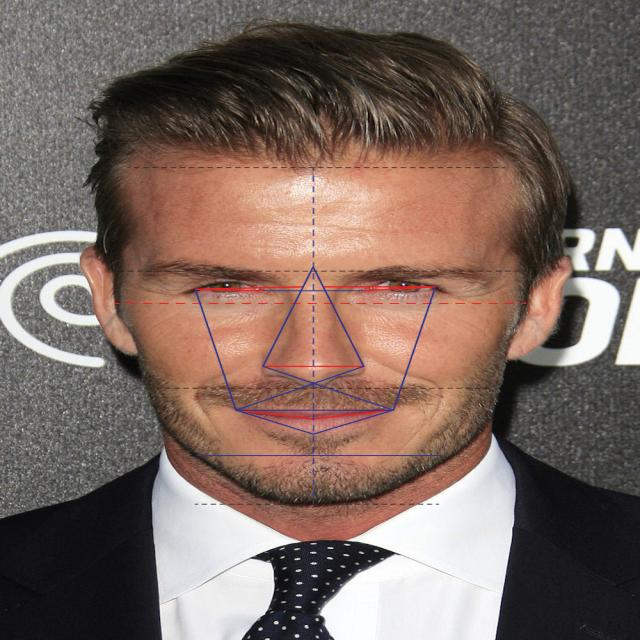front: (83, 163, 534, 486)
